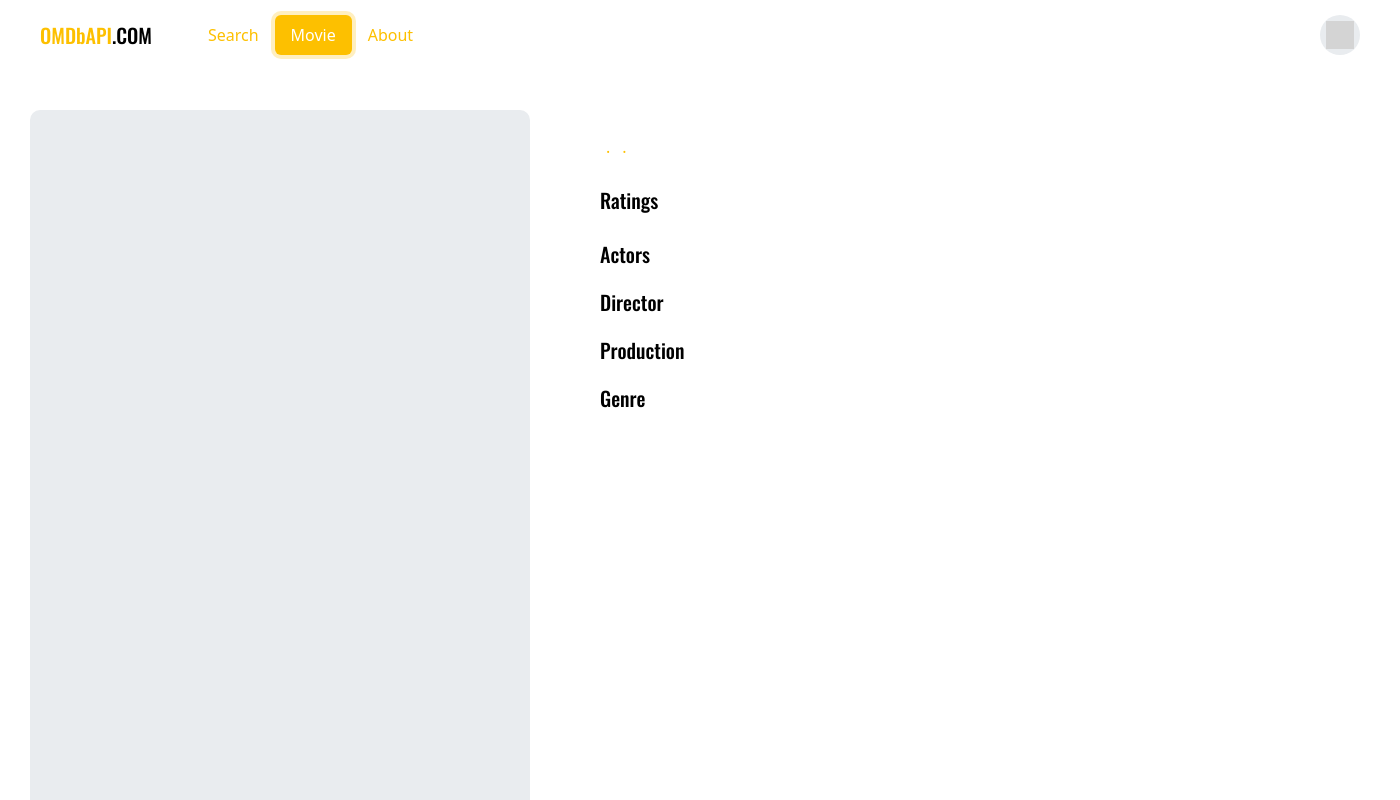
Scenario: About 페이지 이동 › About 페이지 이동
The width and height of the screenshot is (1400, 800).
Click the element with class "user" at (1340, 35), box left=1320, top=15, right=1360, bottom=55
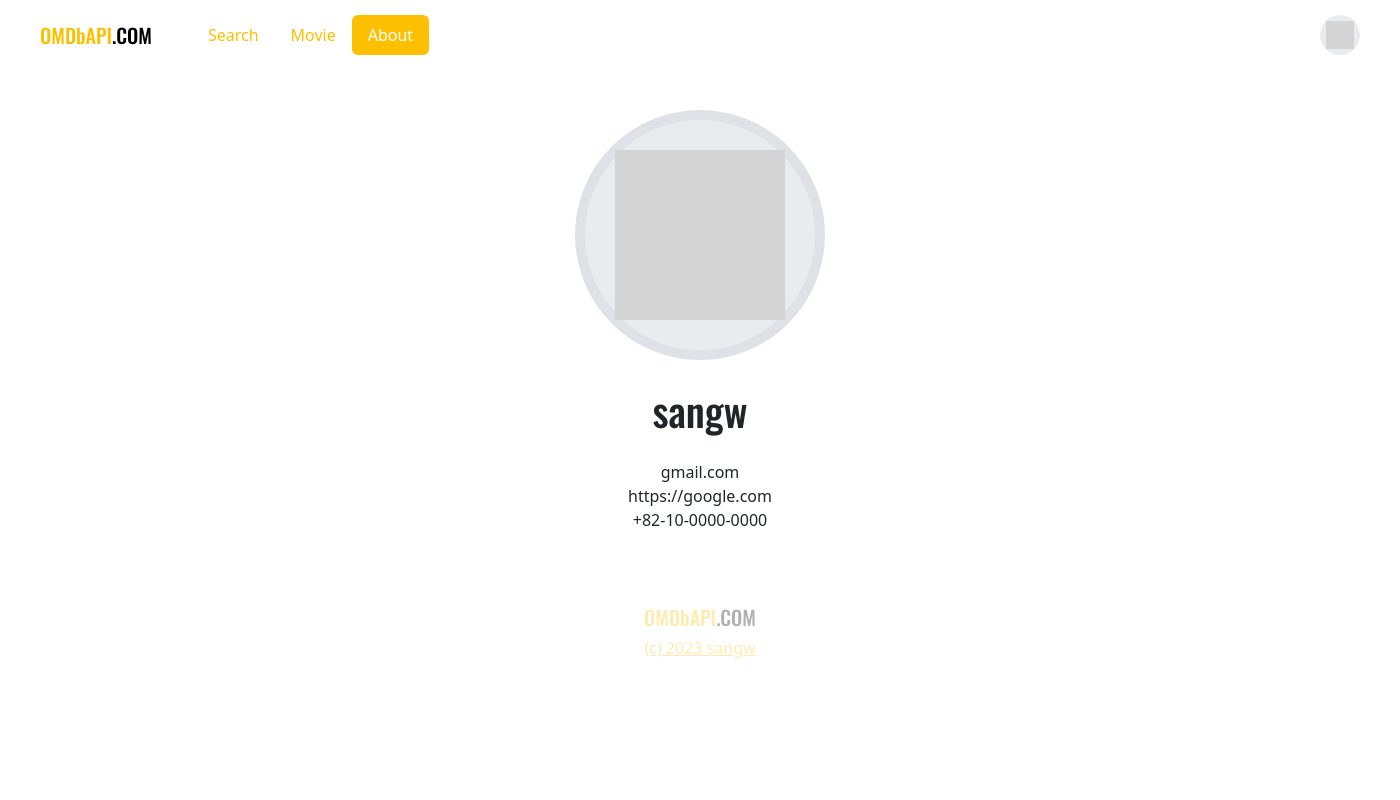
Expected: the link "About" is shown, left=352, top=15, right=429, bottom=55
Now the text "sangw" is shown, box left=652, top=380, right=748, bottom=440
